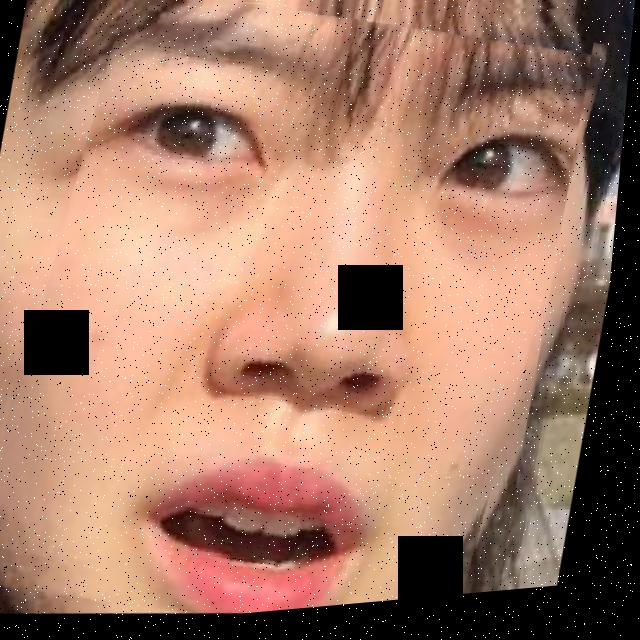anger: (0, 0, 605, 639)
